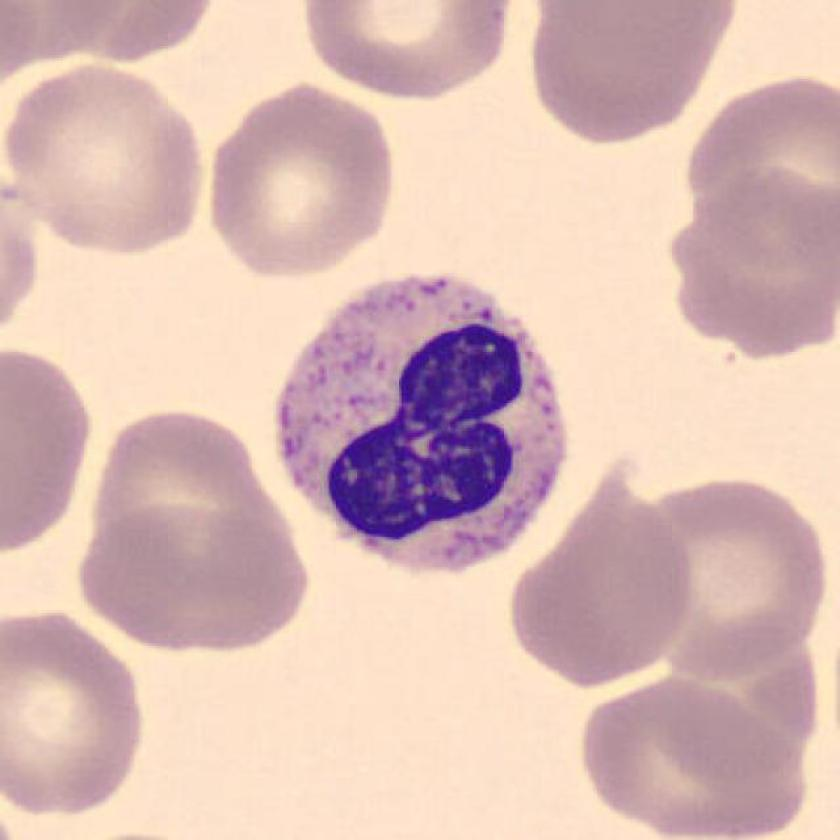neutrophil: (278, 278, 565, 571)
